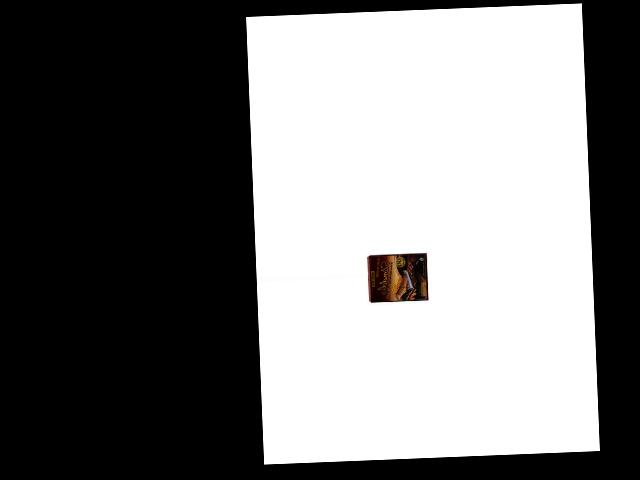chocolate: (367, 253, 428, 302)
